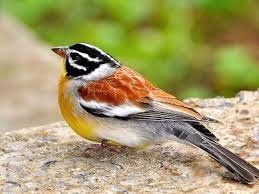bird: (47, 39, 259, 185)
